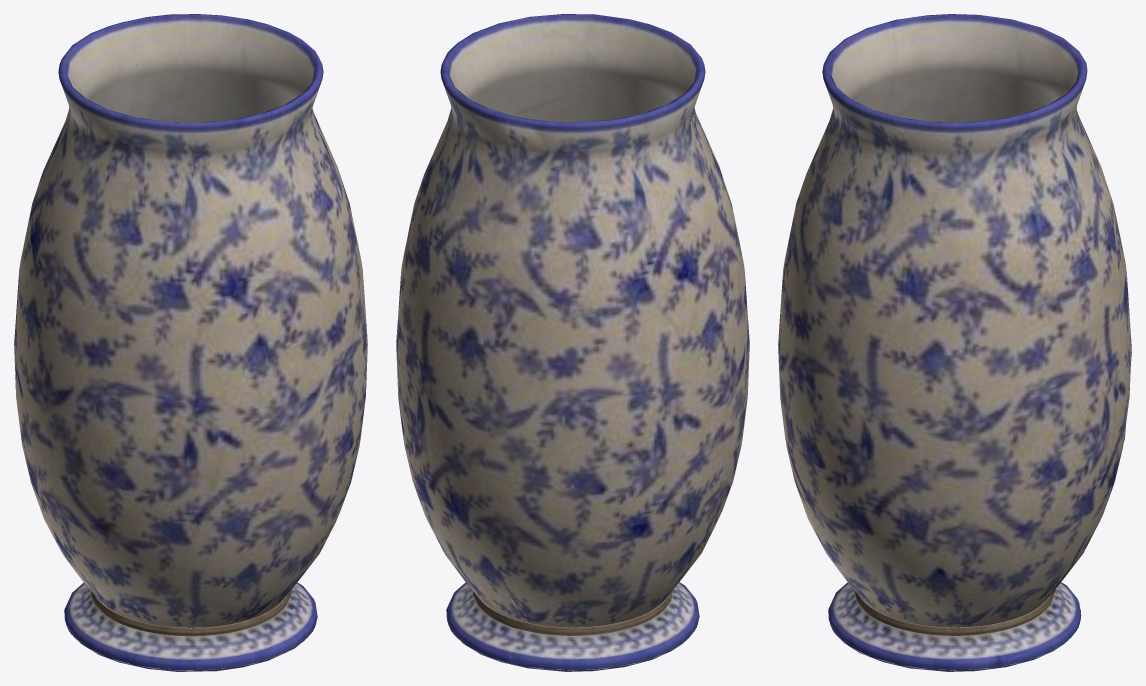
Rendered from vase_blue.glb.
3 views of the same model, side by side, from view 1: azimuth 30°, elevation 25°; view 2: azimuth 150°, elevation 25°; view 3: azimuth 270°, elevation 25° (orthographic).
Visible parts, largest first — view 1: antique_ceramic_vase_01; view 2: antique_ceramic_vase_01; view 3: antique_ceramic_vase_01.
Boxes of the visible parts, <box> form: antique_ceramic_vase_01: <box>14,14,367,671</box>; antique_ceramic_vase_01: <box>396,14,749,671</box>; antique_ceramic_vase_01: <box>778,14,1131,671</box>.
Size of the model in its own units: 0.2905 by 0.5 by 0.2907.
1 material, 1 textured.
